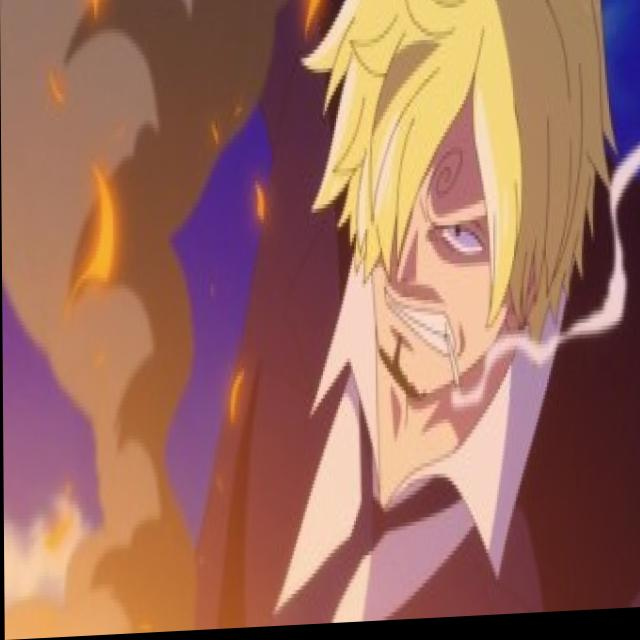Sangdi: (346, 0, 610, 413)
